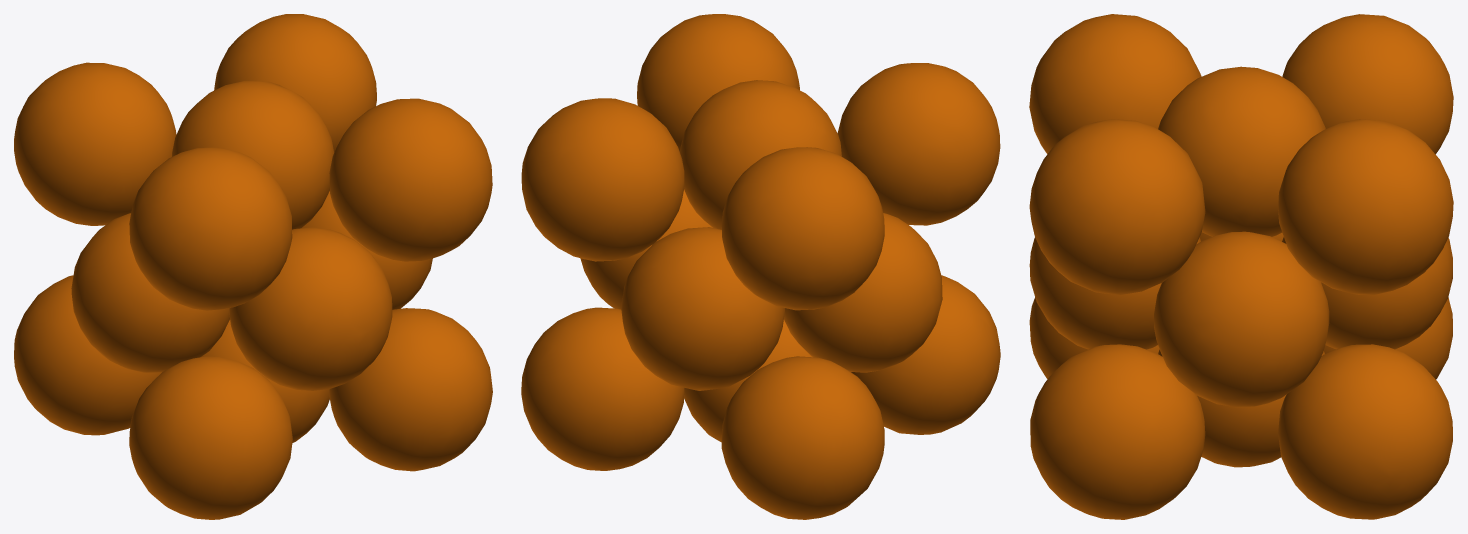
Rendered from FCC_Atoms.glb.
3 views of the same model, side by side, from view 1: azimuth 30°, elevation 25°; view 2: azimuth 150°, elevation 25°; view 3: azimuth 270°, elevation 25° (orthographic). The views are drawn at different scales.
Parts seen in each view (by area): view 1: FCC_Atoms; view 2: FCC_Atoms; view 3: FCC_Atoms.
Boxes of the visible parts, x1=… form: FCC_Atoms: x1=14, y1=14, x2=492, y2=519; FCC_Atoms: x1=521, y1=14, x2=1000, y2=519; FCC_Atoms: x1=1029, y1=14, x2=1453, y2=519.
Bounding box in the file's own units: 0.6831 × 0.6834 × 0.6836.
